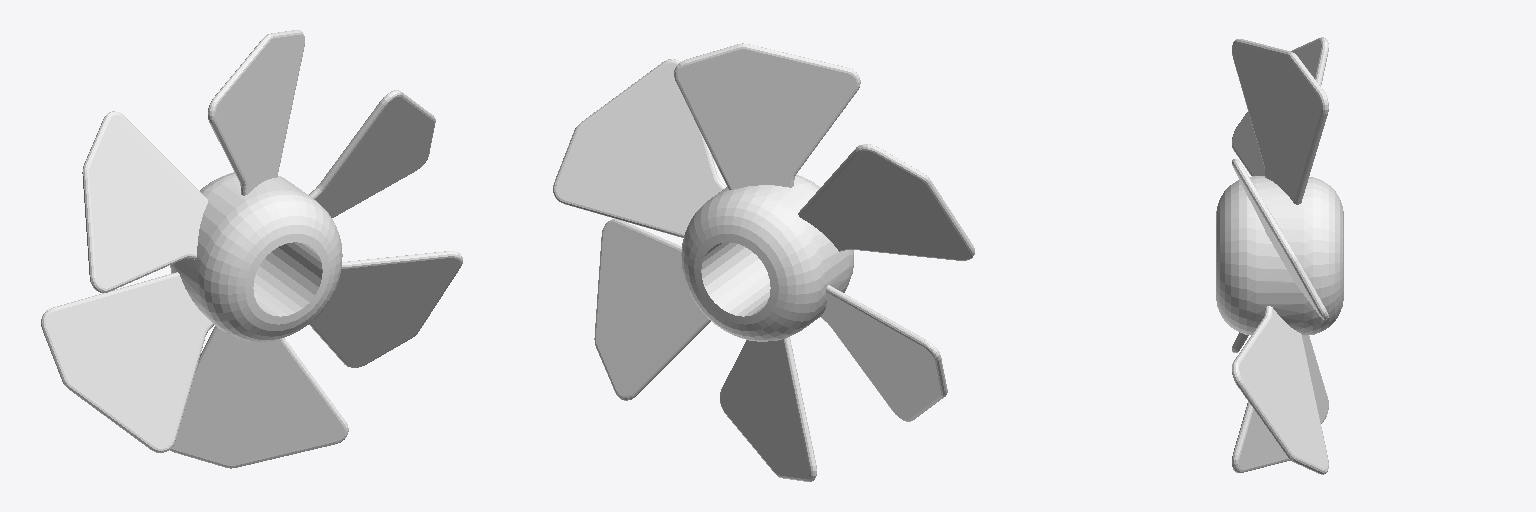
File: prop.obj
The picture shows the model from 3 angles: view 1: azimuth 30°, elevation 25°; view 2: azimuth 150°, elevation 25°; view 3: azimuth 270°, elevation 25°; orthographic projection.
Visible parts, largest first — view 1: prop; view 2: prop; view 3: prop.
Boxes of the visible parts, x1,y1,x2,y2 form: prop: [41, 30, 462, 468]; prop: [553, 43, 974, 481]; prop: [1216, 37, 1343, 474].
Size of the model in its own units: 0.2786 by 0.2924 by 0.08.